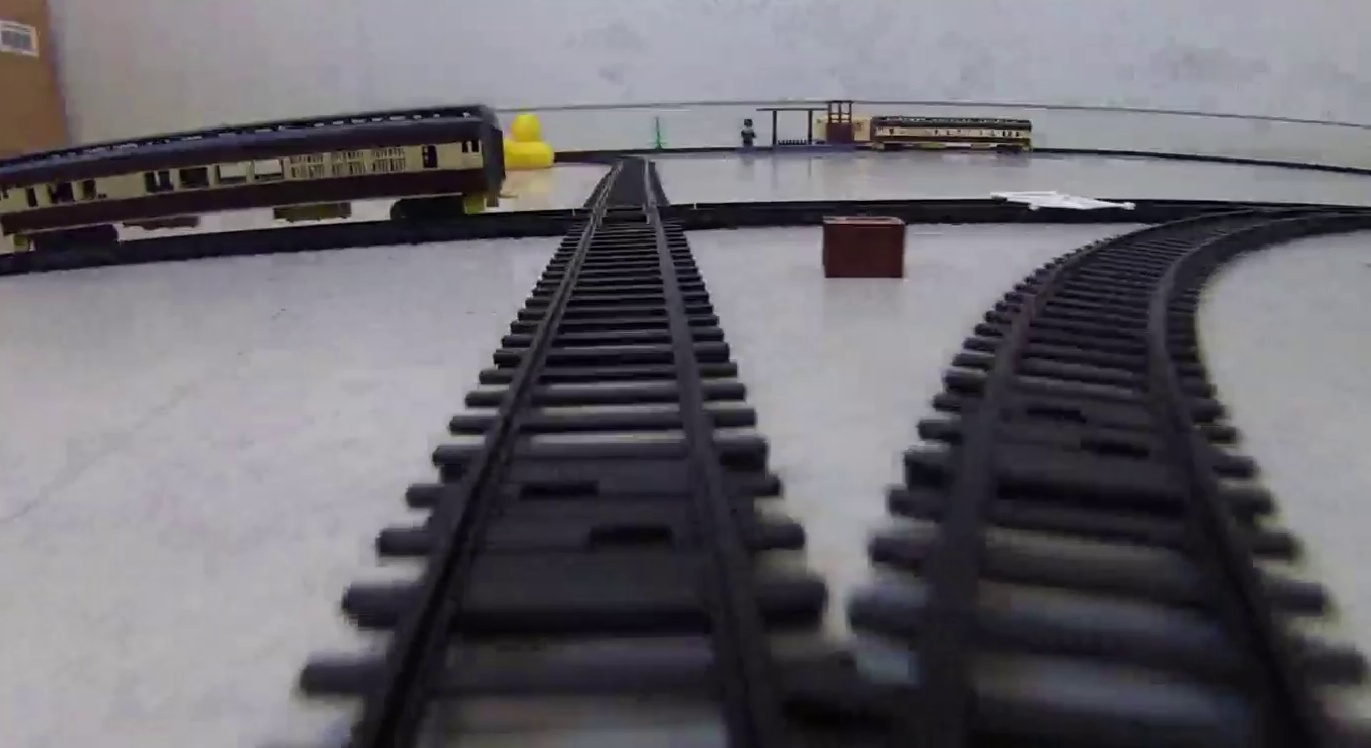box: (818, 215, 909, 281)
